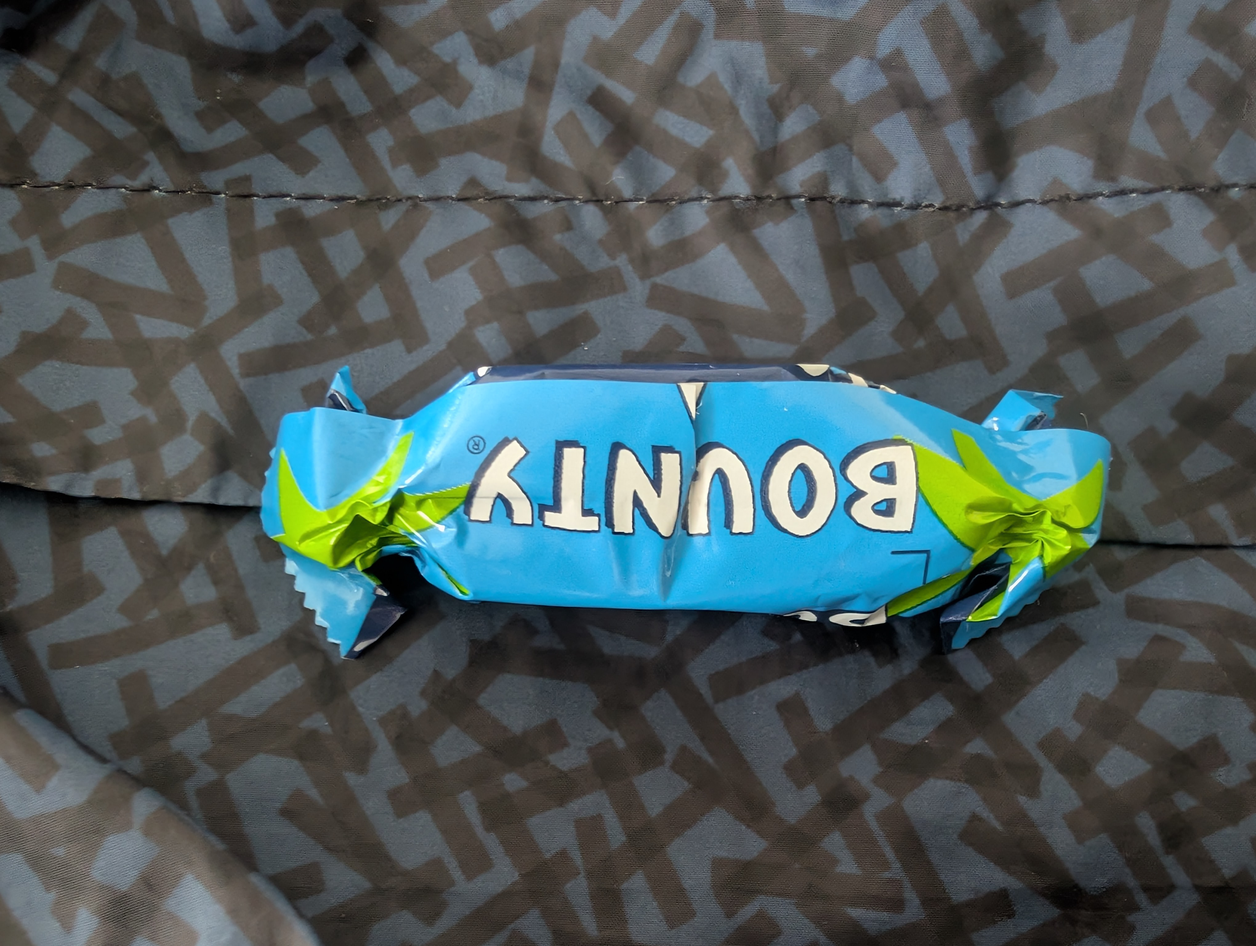Bounty: (271, 365, 1108, 651)
